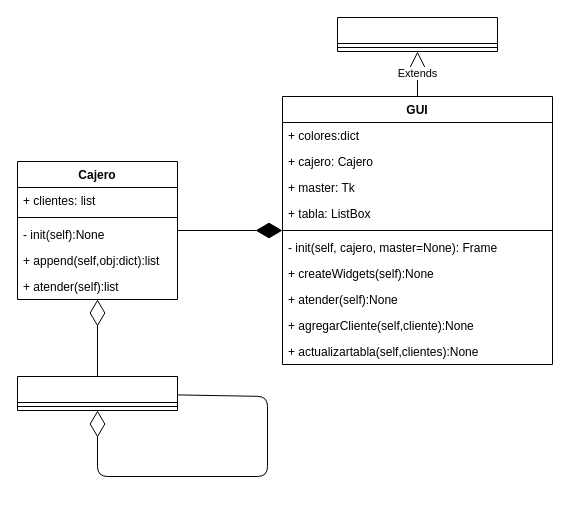
This 570x520 diagram has some shape labels left out. Here are the shapes that lost their labels. From the top down, the centre of each, then its label:
At point (417, 34): "Frame".
At point (97, 393): "List".
